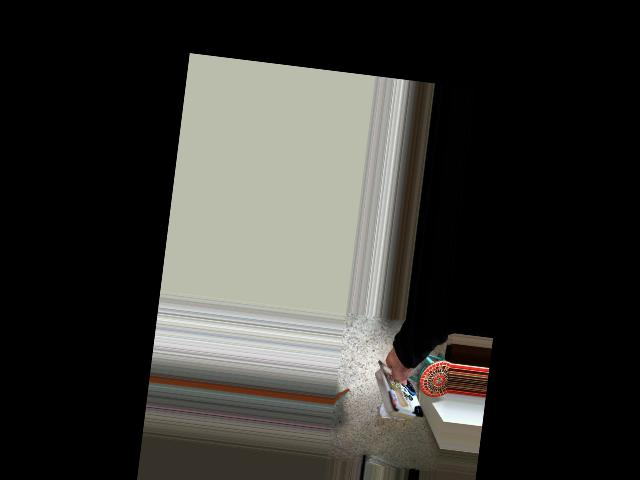cheese: (363, 346, 440, 425)
